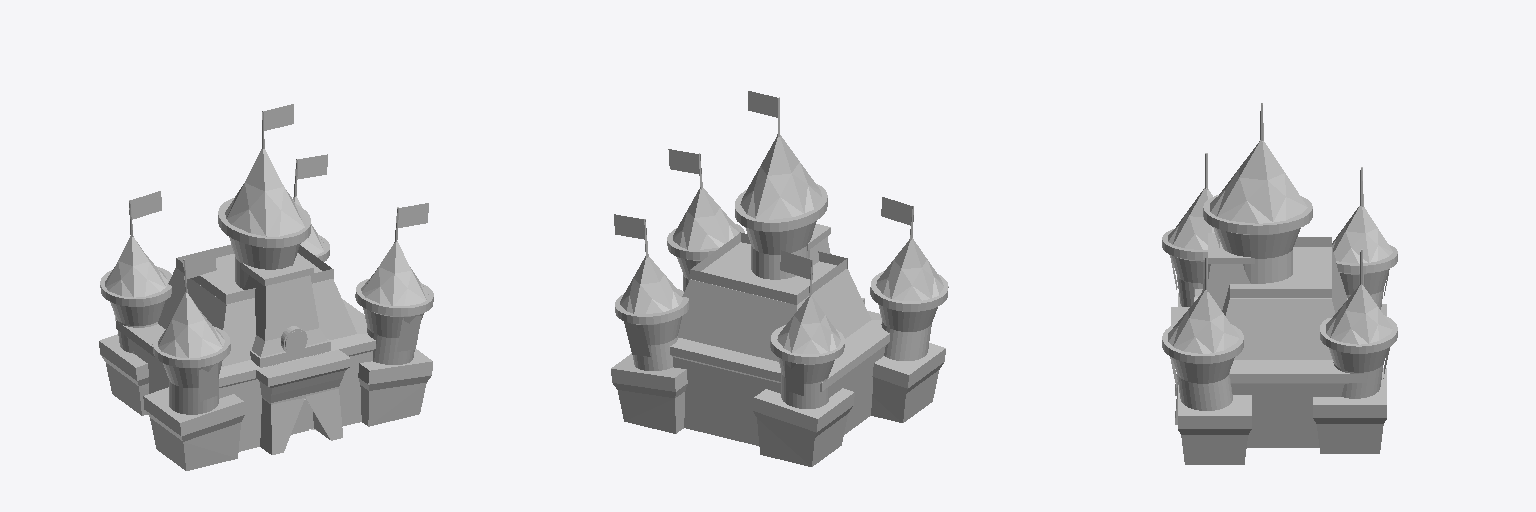
Rendered from Peach's Castle.obj.
3 views of the same model, side by side, from view 1: azimuth 30°, elevation 25°; view 2: azimuth 150°, elevation 25°; view 3: azimuth 270°, elevation 25° (orthographic).
Visible parts, largest first — view 1: Castle_Cylinder.007; view 2: Castle_Cylinder.007; view 3: Castle_Cylinder.007.
Boxes of the visible parts, x1=… form: Castle_Cylinder.007: x1=99, y1=104, x2=433, y2=470; Castle_Cylinder.007: x1=611, y1=91, x2=948, y2=466; Castle_Cylinder.007: x1=1162, y1=103, x2=1397, y2=464.
Bounding box in the file's own units: 8.44 × 8.99 × 6.32.